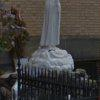Statue: (32, 3, 73, 65)
